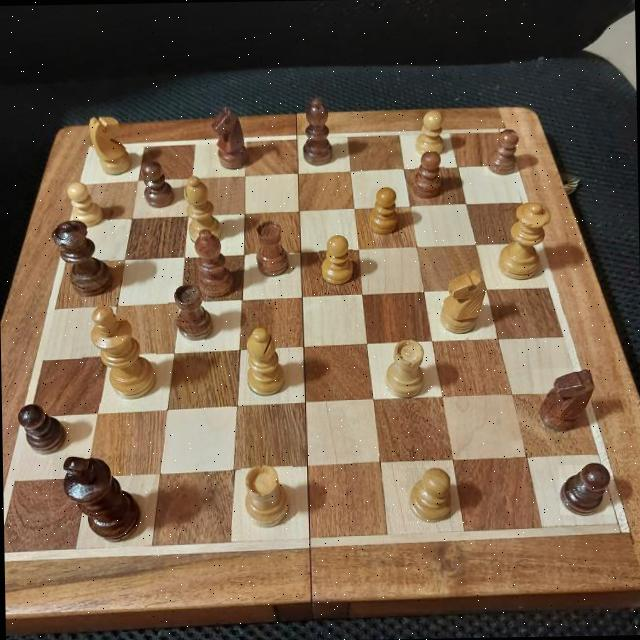black-camel: (194, 228, 225, 294), (304, 96, 329, 164)
black-elephant: (248, 220, 288, 281), (168, 286, 204, 342)
black-horse: (533, 367, 596, 437), (210, 105, 248, 168)
black-king: (52, 453, 145, 548), (91, 115, 132, 178)
black-pawn: (558, 464, 614, 515), (17, 402, 72, 452), (482, 127, 529, 175), (414, 151, 445, 194), (145, 160, 169, 211)
black-queen: (46, 219, 108, 302)
white-camel: (241, 322, 280, 400), (182, 176, 218, 235)
white-elephant: (240, 466, 293, 523), (388, 340, 424, 394)
white-horse: (439, 265, 489, 332)
white-king: (80, 306, 156, 404)
white-pawn: (405, 466, 450, 520), (318, 232, 353, 288), (61, 182, 100, 222), (369, 188, 398, 234), (413, 110, 446, 150)
white-queen: (498, 202, 553, 277)
